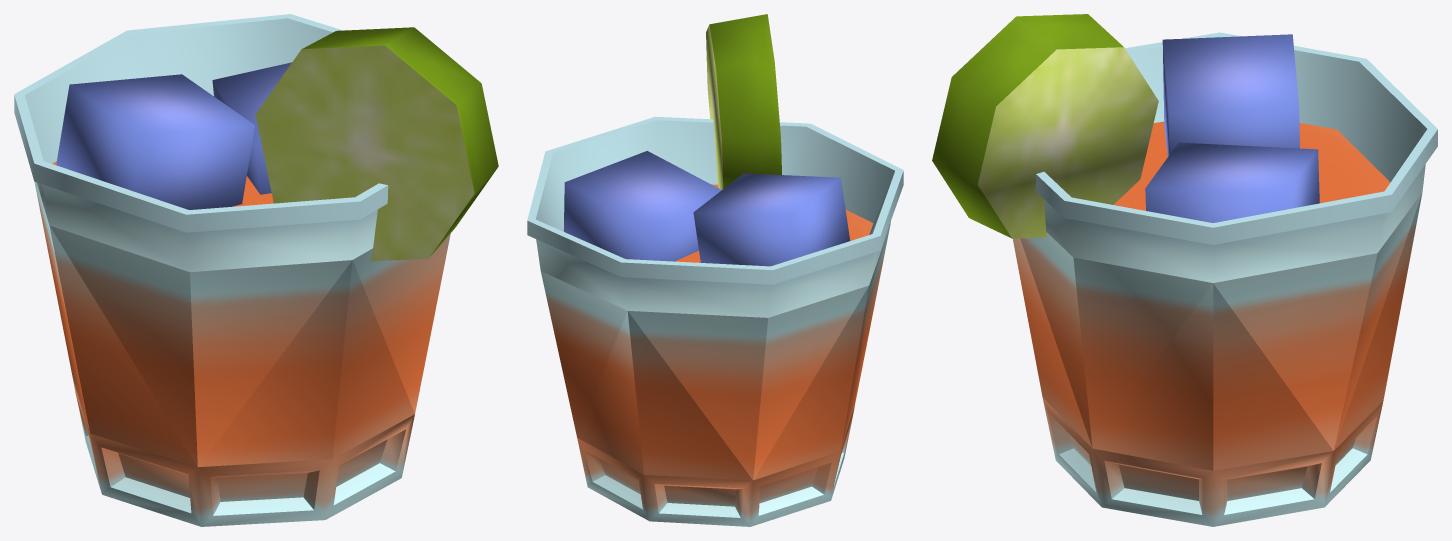
The model's file is LowBallDrink.fbx.
3 views of the same model, side by side, from view 1: azimuth 30°, elevation 25°; view 2: azimuth 150°, elevation 25°; view 3: azimuth 270°, elevation 25° (orthographic). The views are drawn at different scales.
Parts seen in each view (by area): view 1: LowballGlassLiquid; view 2: LowballGlassLiquid; view 3: LowballGlassLiquid.
Boxes of the visible parts, <box> form: LowballGlassLiquid: <box>14,14,498,526</box>; LowballGlassLiquid: <box>527,14,903,526</box>; LowballGlassLiquid: <box>932,14,1437,526</box>.
Size of the model in its own units: 19.99 by 22.06 by 21.88.
